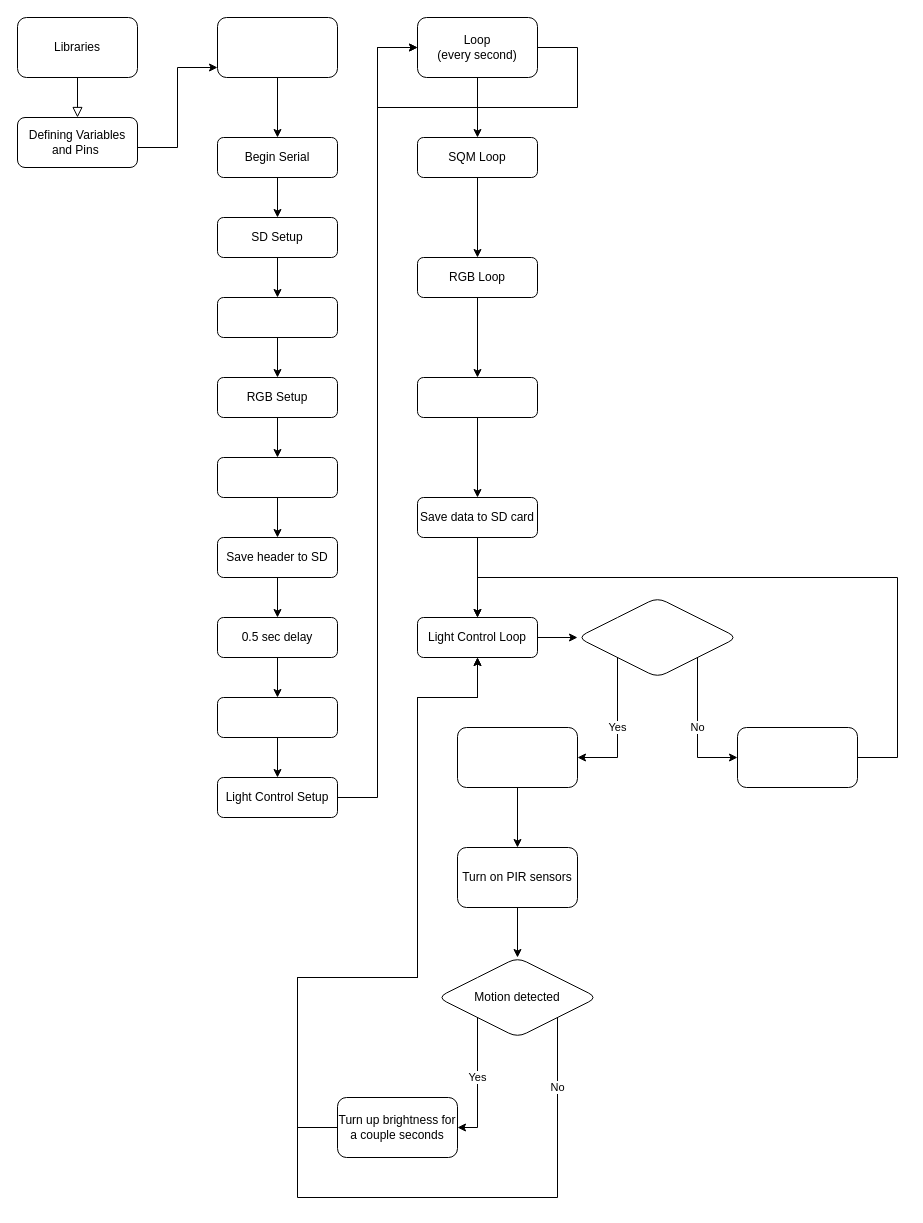
This 923x1223 diagram has some shape labels left out. Here are the shapes that lost their labels. From the top down, the centre of each, then its label:
pixel 277 47: Setup
pixel 277 317: SQM Setup
pixel 477 397: Prepare data to be saved
pixel 277 477: 1 sec delay
pixel 657 637: SQM Sensor reads <250
pixel 277 717: PIR Setups
pixel 517 757: Turn on lights to 10 brightness
pixel 797 757: Turn lights off
